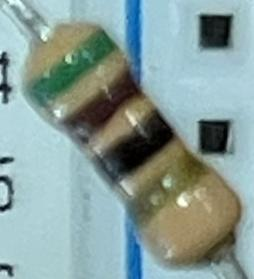Black: (88, 106, 179, 186)
Brown: (53, 65, 145, 147)
Green: (22, 24, 124, 118)
Side-Gold: (121, 148, 215, 237)
